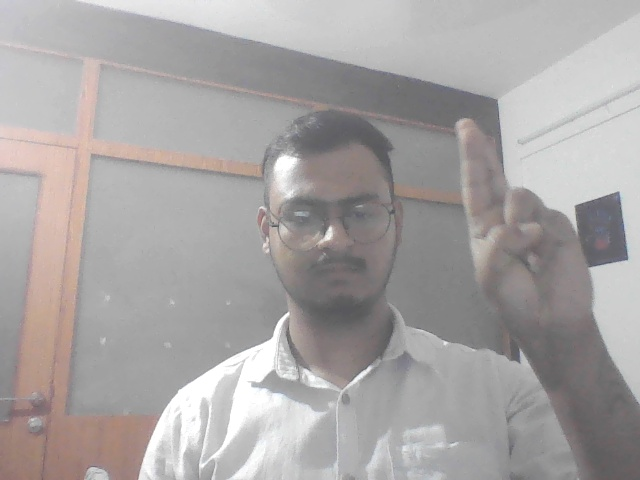GoodLuck: (449, 110, 614, 353)
